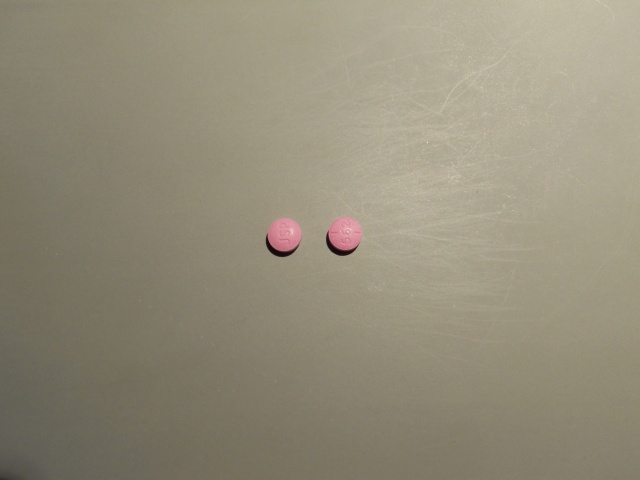2: (339, 219, 353, 227)
5: (340, 237, 352, 245)
6: (339, 227, 353, 237)
J: (277, 237, 291, 246)
P: (277, 222, 292, 230)
S: (277, 230, 293, 237)
|: (327, 229, 361, 236)
